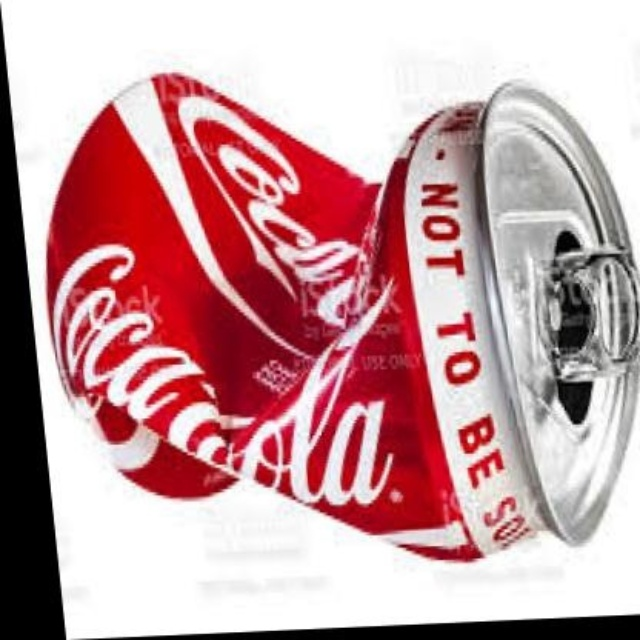trash: (48, 74, 638, 558)
